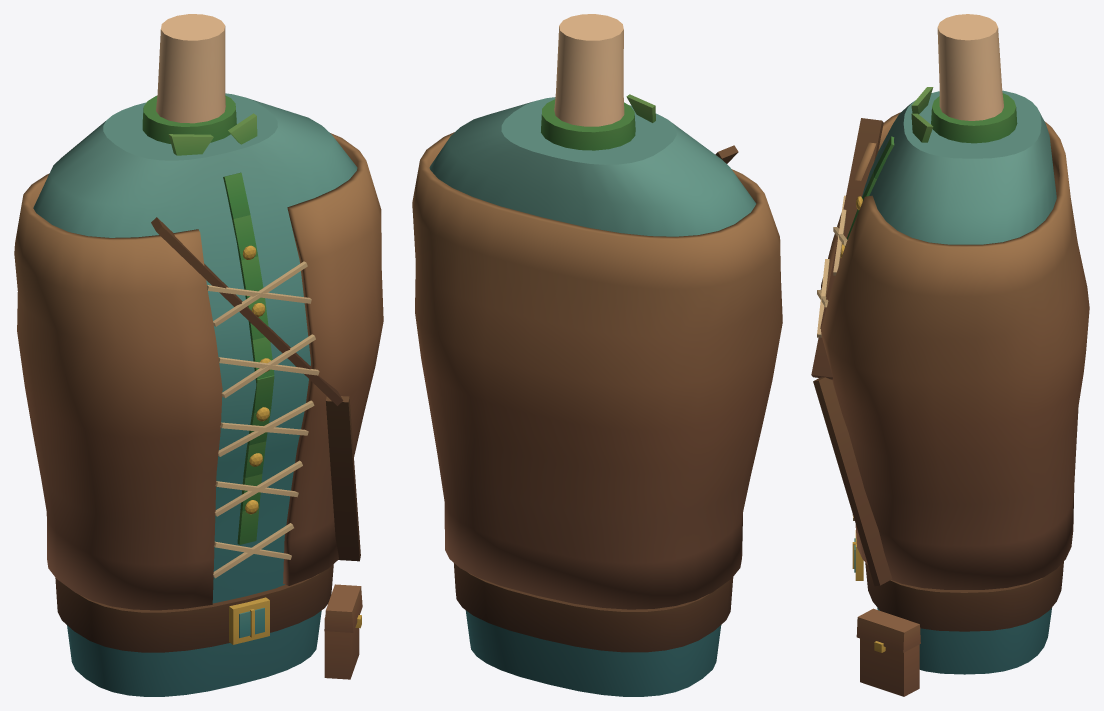
The model's file is merchant_esme_torso.glb.
3 renders of one model, left to right at view 1: azimuth 30°, elevation 25°; view 2: azimuth 150°, elevation 25°; view 3: azimuth 270°, elevation 25°, orthographic. The views are drawn at different scales.
Visible parts, largest first — view 1: merchant_esme_torso; view 2: merchant_esme_torso; view 3: merchant_esme_torso.
Part boxes in pixels (x1,y1,x2,y2): merchant_esme_torso: (14,14,383,696); merchant_esme_torso: (412,14,782,696); merchant_esme_torso: (811,14,1089,696).
Bounding box in the file's own units: 1.15 × 2.1 × 0.8705.
Materials: 1 (1 with a texture image).
